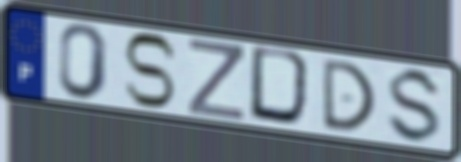0: (56, 21, 111, 102)
D: (247, 43, 318, 131), (319, 56, 378, 133)
S: (384, 66, 446, 147), (120, 30, 180, 111)
Z: (186, 35, 248, 123)
